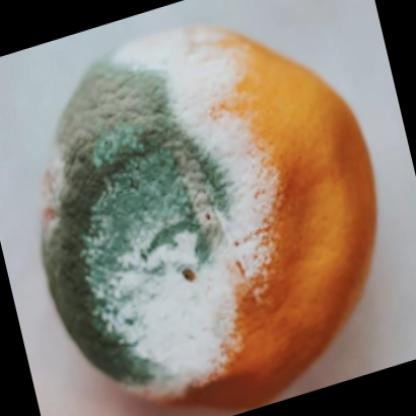rotten: (43, 28, 378, 405)
